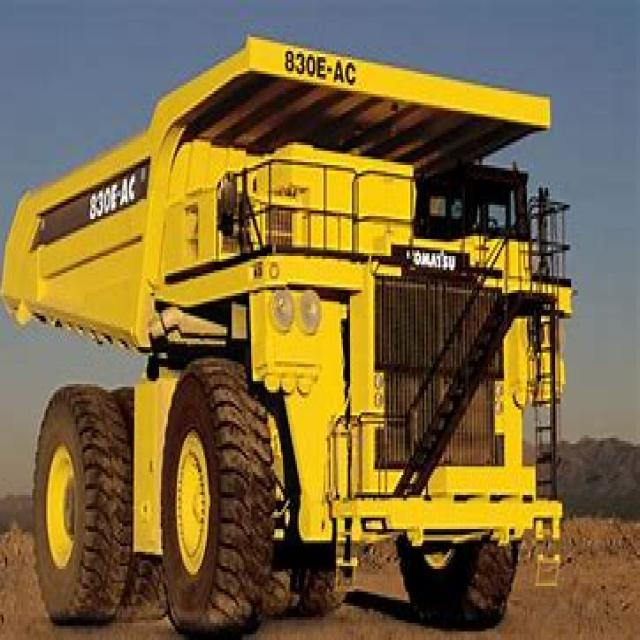dump_truck: (25, 29, 562, 620)
